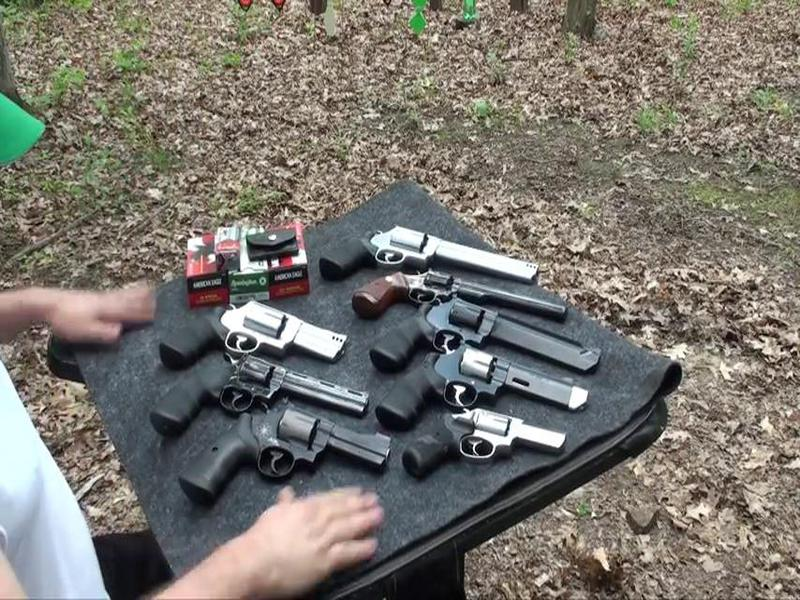Revolver: (355, 302, 615, 388), (172, 409, 396, 498), (127, 291, 363, 372), (319, 215, 557, 295), (337, 268, 610, 330), (367, 344, 592, 418), (133, 355, 370, 425), (397, 403, 569, 477)
